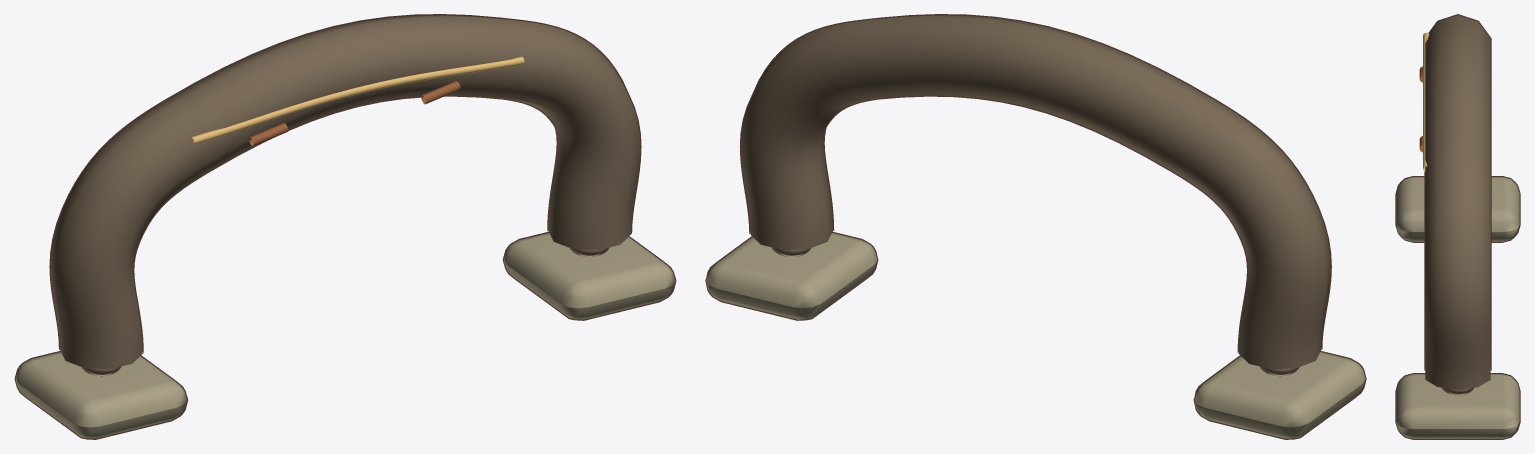
File: assembly_10001.glb
3 renders of one model, left to right at view 1: azimuth 30°, elevation 25°; view 2: azimuth 150°, elevation 25°; view 3: azimuth 270°, elevation 25°, orthographic. The views are drawn at different scales.
Visible parts, largest first — view 1: Surface_edge, Surface_metal, Surface_ink, Surface_chip, Surface_rust; view 2: Surface_edge, Surface_metal, Surface_ink; view 3: Surface_edge, Surface_metal, Surface_ink, Surface_chip.
Boxes of the visible parts, <box> form: Surface_edge: <box>50,15,640,374</box>; Surface_metal: <box>15,233,675,438</box>; Surface_ink: <box>14,14,676,439</box>; Surface_chip: <box>190,56,524,144</box>; Surface_rust: <box>249,81,460,146</box>; Surface_edge: <box>741,15,1330,374</box>; Surface_metal: <box>706,233,1365,438</box>; Surface_ink: <box>705,14,1366,439</box>; Surface_edge: <box>1425,15,1490,394</box>; Surface_metal: <box>1396,177,1519,438</box>; Surface_ink: <box>1395,14,1520,439</box>; Surface_chip: <box>1423,32,1429,171</box>.
Size of the model in its own units: 0.8329 by 0.4257 by 0.1817.
